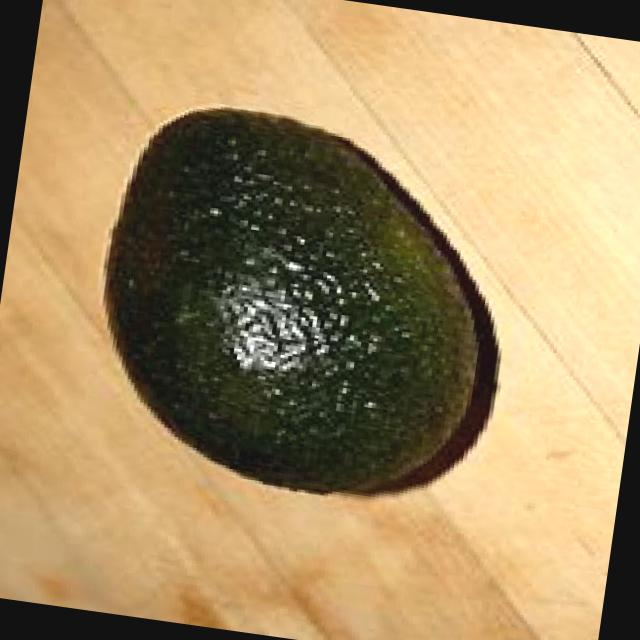avocado: (70, 87, 526, 516)
